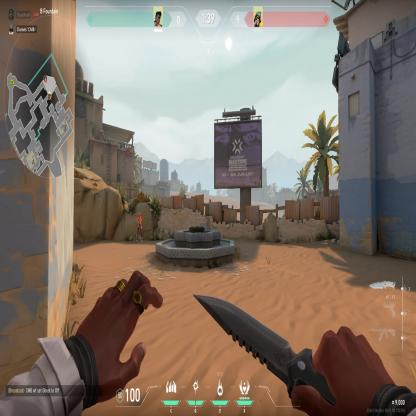enemy: (135, 210, 142, 242)
